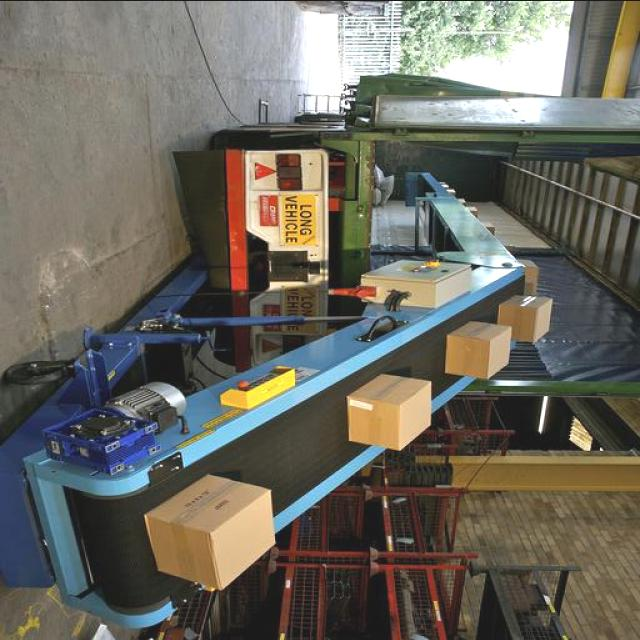conveyor: (66, 268, 529, 622)
